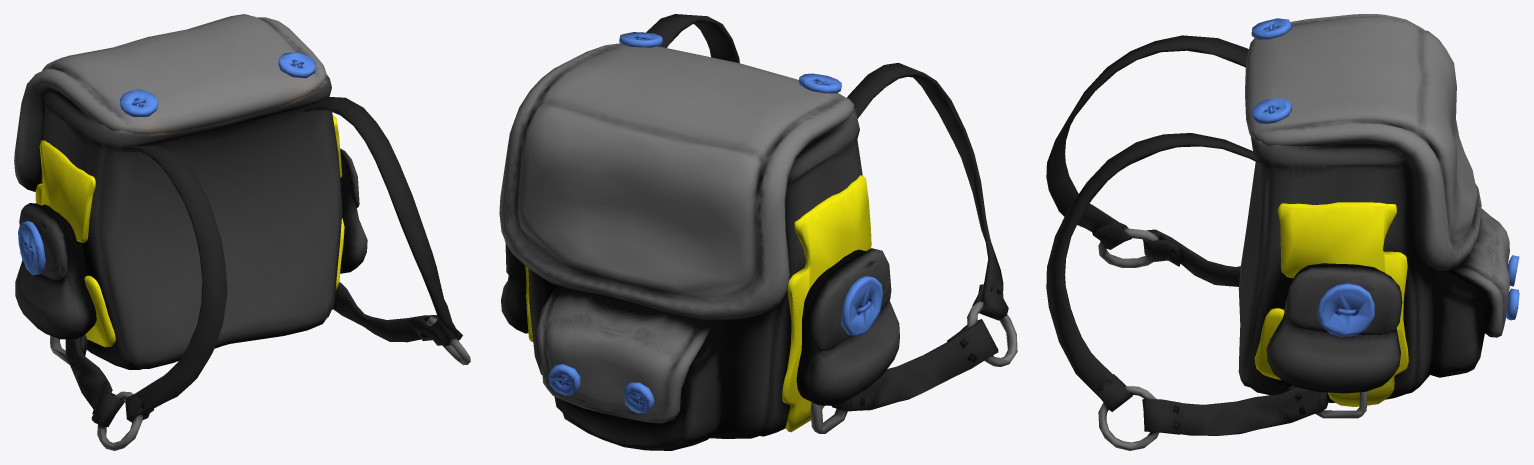
File: leather-backpack-1c16f7.glb
The picture shows the model from 3 angles, left to right: view 1: azimuth 30°, elevation 25°; view 2: azimuth 150°, elevation 25°; view 3: azimuth 270°, elevation 25°; orthographic projection. The views are drawn at different scales.
Parts seen in each view (by area): view 1: PropMesh; view 2: PropMesh; view 3: PropMesh.
Boxes of the visible parts, box(x1,y1,x2,y2) form: PropMesh: box(14, 14, 470, 450); PropMesh: box(499, 14, 1017, 450); PropMesh: box(1046, 14, 1519, 450).
Bounding box in the file's own units: 0.6599 × 0.5011 × 0.7052.
3 materials, 3 textured.
